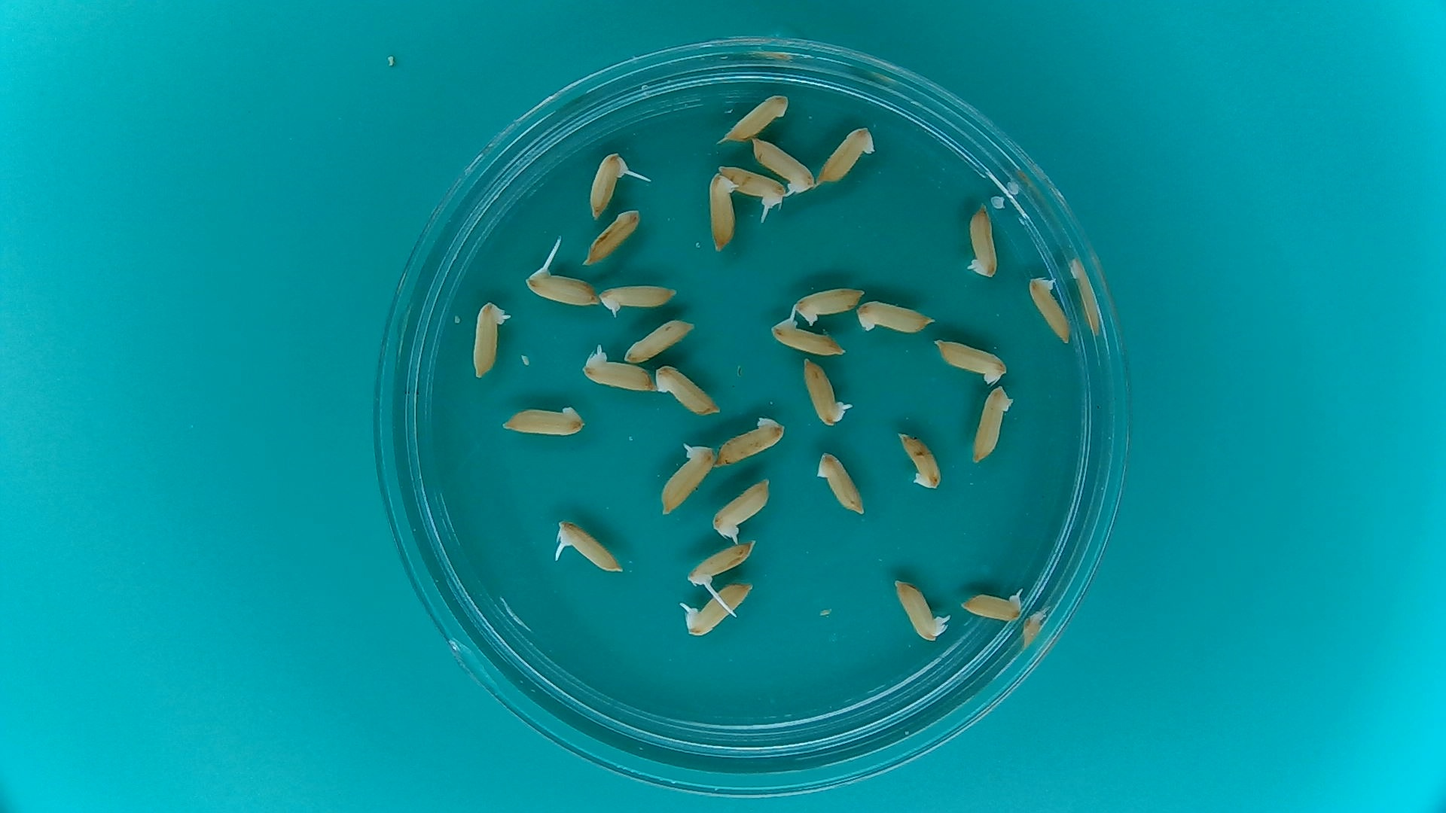no: (712, 413, 789, 467), (715, 90, 792, 143), (651, 364, 724, 419), (969, 382, 1016, 467), (814, 447, 870, 518), (816, 123, 878, 187), (930, 336, 1010, 385), (582, 206, 645, 268), (1024, 272, 1075, 347), (620, 315, 699, 362), (498, 400, 587, 440), (894, 428, 947, 494), (790, 281, 869, 325), (961, 199, 1001, 281), (853, 298, 936, 336), (706, 170, 740, 252)
yes: (660, 442, 718, 516), (684, 580, 758, 637), (890, 576, 950, 645), (800, 353, 853, 430), (748, 139, 815, 195), (709, 475, 770, 534), (684, 538, 757, 586), (556, 522, 622, 575), (715, 166, 786, 212), (468, 300, 507, 383), (584, 349, 655, 393), (527, 266, 602, 307), (770, 318, 847, 357), (594, 284, 674, 320), (589, 150, 628, 221), (959, 586, 1026, 623)
